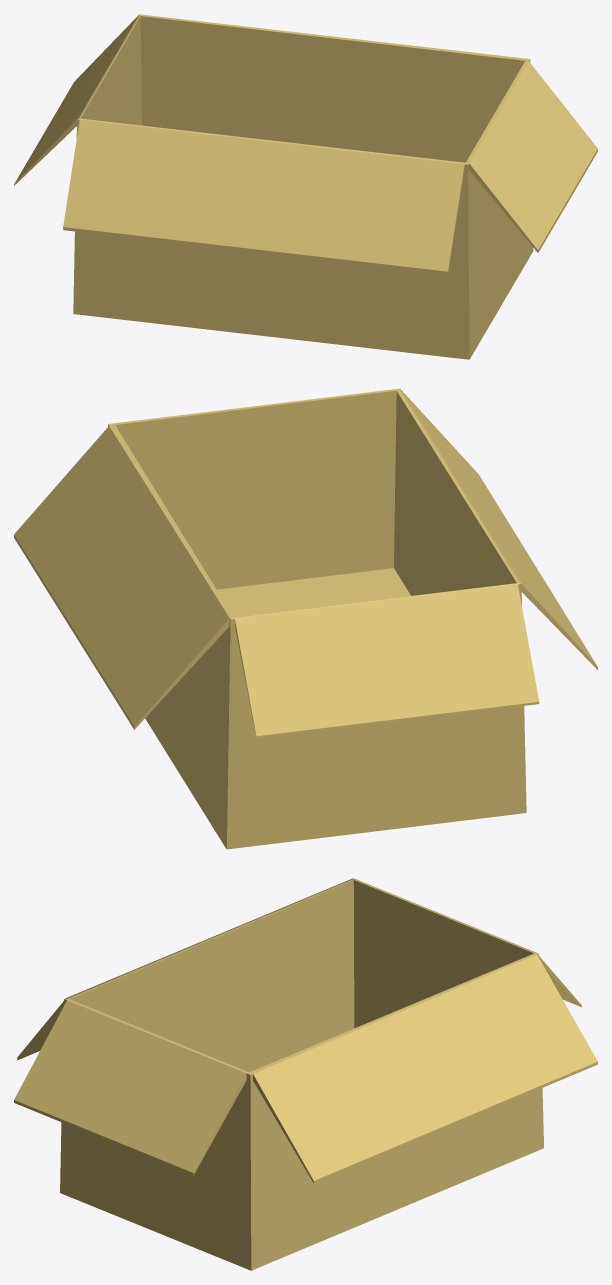
File: ZG_Proxy_Box3.fbx
3 views of the same model, one above another, from view 1: azimuth 30°, elevation 25°; view 2: azimuth 150°, elevation 25°; view 3: azimuth 270°, elevation 25° (orthographic). The views are drawn at different scales.
Parts seen in each view (by area): view 1: Cardboard2; view 2: Cardboard2; view 3: Cardboard2.
Boxes of the visible parts, x1=… form: Cardboard2: x1=14, y1=14, x2=597, y2=359; Cardboard2: x1=14, y1=388, x2=597, y2=849; Cardboard2: x1=14, y1=878, x2=597, y2=1270.
Size of the model in its own units: 203 by 76.52 by 209.
